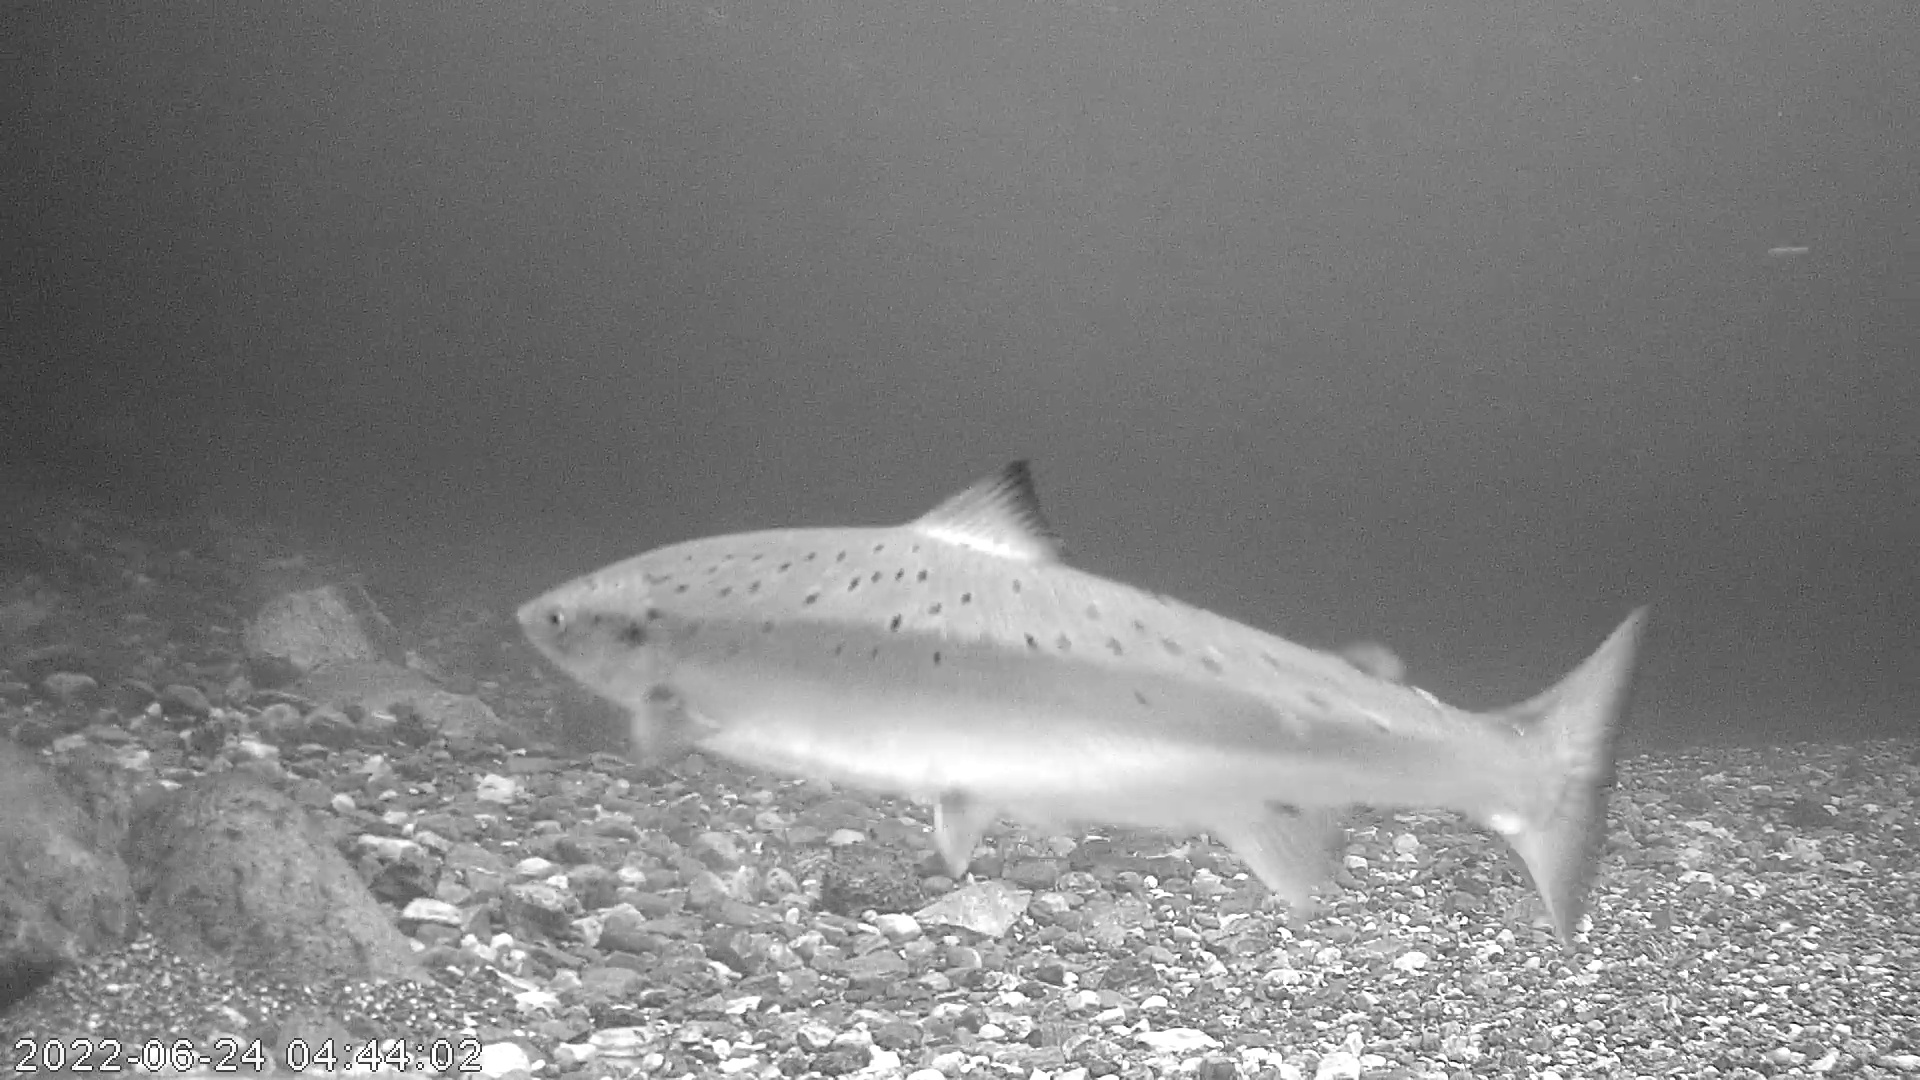salmon: (514, 454, 1656, 961)
